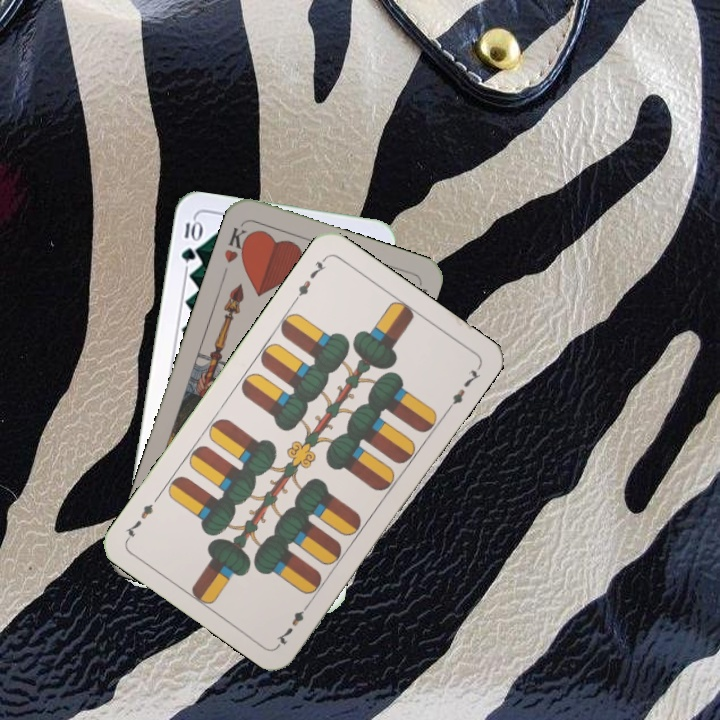E7: (272, 597, 314, 648), (290, 253, 329, 305)
G10: (177, 215, 202, 264)
HK: (220, 220, 254, 266)
